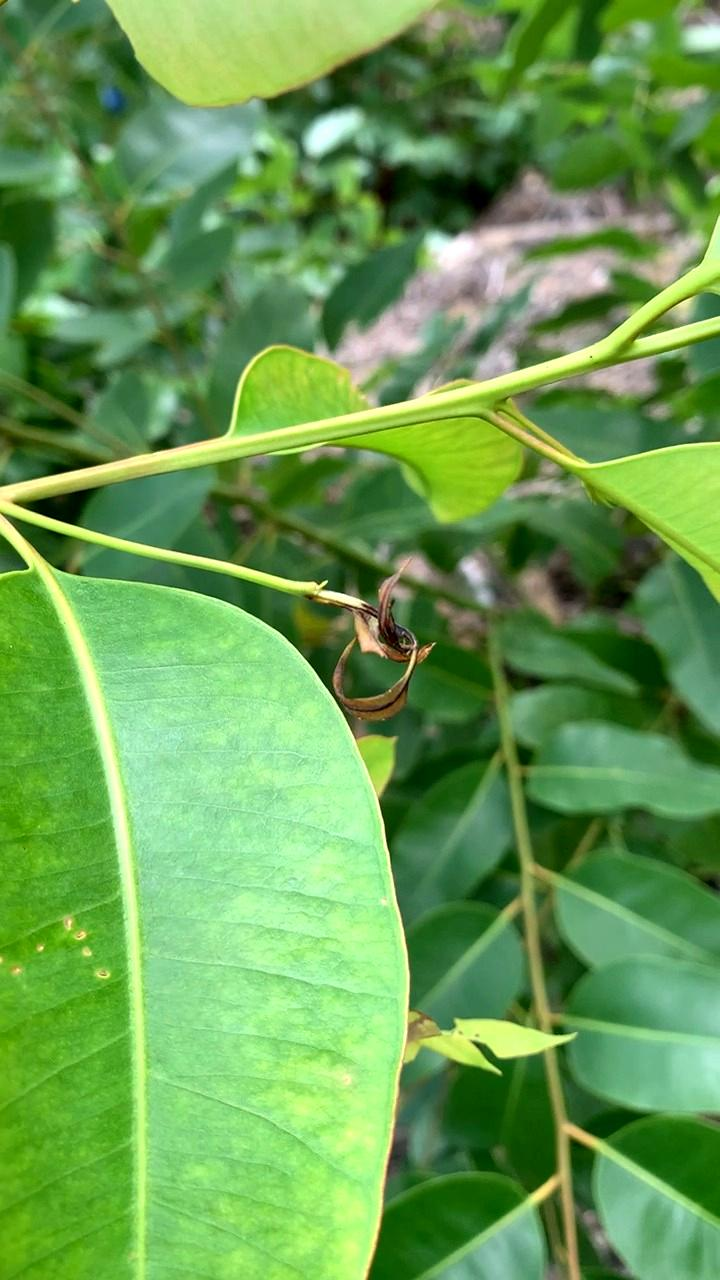Helopeltis-Withered Sprout: (326, 578, 451, 721)
